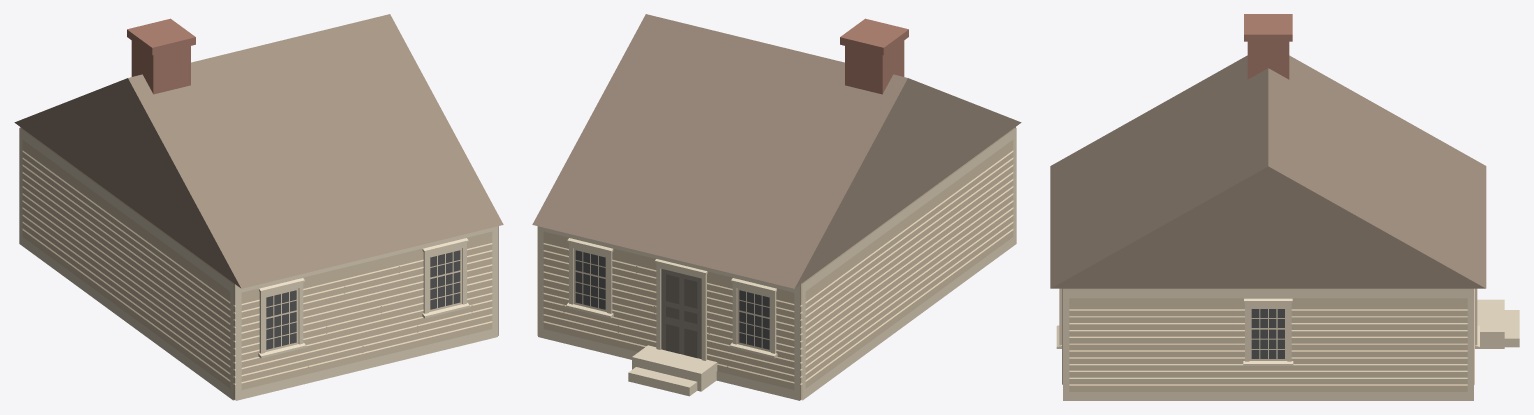
The model's file is recon_1835_north_d4_025__inferred_1835.glb.
3 views of the same model, side by side, from view 1: azimuth 30°, elevation 25°; view 2: azimuth 150°, elevation 25°; view 3: azimuth 270°, elevation 25° (orthographic). The views are drawn at different scales.
Parts seen in each view (by area): view 1: recon_1835_north_d4_025__inferred_1835; view 2: recon_1835_north_d4_025__inferred_1835; view 3: recon_1835_north_d4_025__inferred_1835.
Boxes of the visible parts, left/top/right/bottom form: recon_1835_north_d4_025__inferred_1835: left=14, top=14, right=503, bottom=400; recon_1835_north_d4_025__inferred_1835: left=532, top=14, right=1021, bottom=400; recon_1835_north_d4_025__inferred_1835: left=1050, top=14, right=1519, bottom=400.
Bounding box in the file's own units: 6.01 × 5.99 × 9.46.
